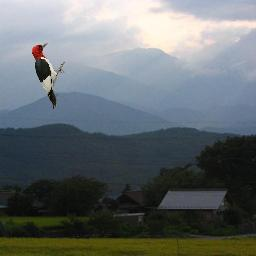Woodpecker: (31, 42, 65, 109)
